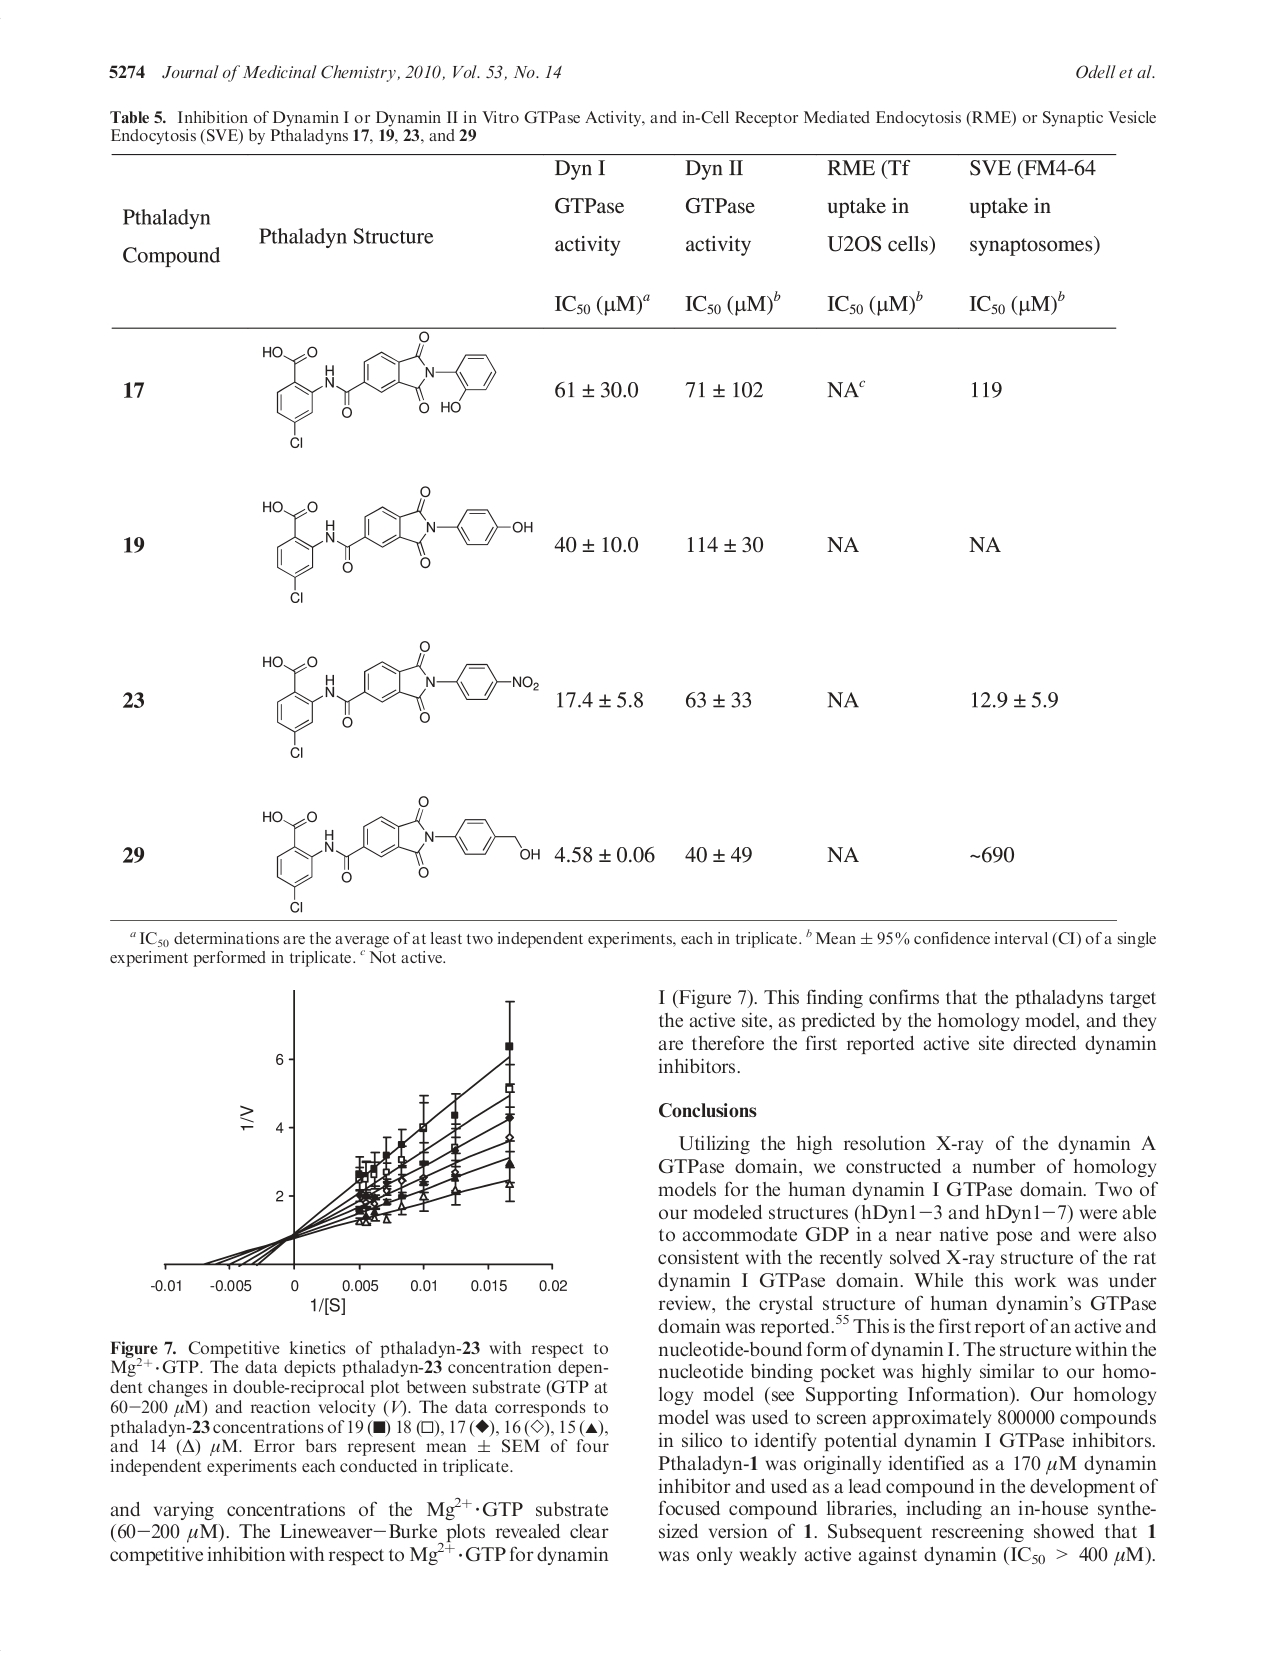exist_molecular: (261, 638, 539, 759), (261, 483, 533, 605), (262, 795, 541, 914), (261, 330, 497, 449)
